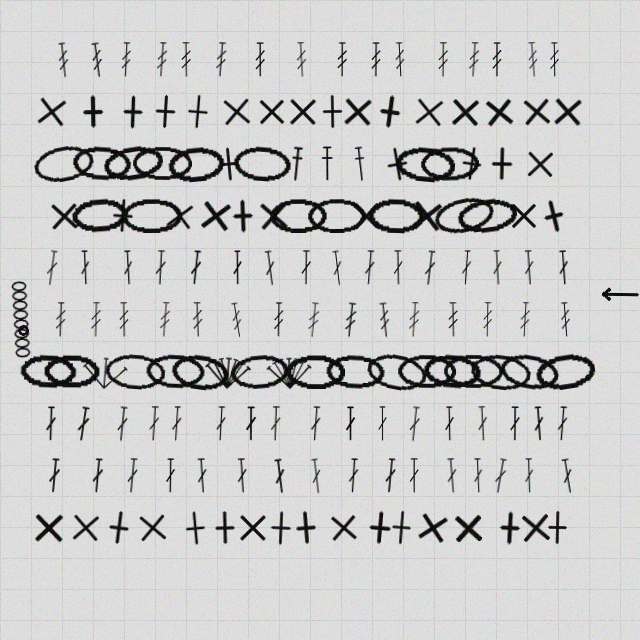chain: (431, 192, 498, 239), (364, 349, 430, 395), (31, 141, 97, 186), (497, 350, 561, 394), (101, 142, 165, 185), (533, 350, 597, 393), (455, 195, 519, 237), (469, 351, 533, 393), (169, 351, 232, 393), (394, 144, 456, 184), (229, 352, 291, 392), (104, 352, 167, 391), (166, 144, 227, 184), (71, 144, 133, 183), (232, 144, 293, 183), (422, 352, 483, 391), (70, 196, 130, 235), (325, 353, 386, 391), (145, 353, 206, 390), (367, 197, 426, 234), (19, 353, 78, 390), (121, 198, 182, 233), (443, 354, 504, 389), (420, 146, 479, 182), (132, 146, 192, 181), (307, 198, 367, 233), (285, 354, 345, 389), (269, 198, 328, 233), (397, 354, 456, 389), (43, 354, 101, 389)
double: (75, 406, 92, 442), (492, 458, 509, 494), (559, 458, 576, 494), (44, 250, 60, 286), (262, 250, 278, 286), (422, 250, 438, 286), (272, 458, 288, 494), (330, 250, 345, 286), (115, 406, 130, 442), (407, 406, 422, 442), (309, 458, 324, 494), (47, 458, 62, 493), (90, 458, 105, 493), (125, 458, 140, 493), (383, 458, 398, 493), (189, 250, 203, 285), (522, 250, 536, 285), (147, 406, 161, 441), (532, 406, 546, 441), (195, 458, 209, 493), (235, 458, 249, 493), (445, 458, 459, 493), (154, 250, 167, 285), (363, 250, 376, 285), (460, 250, 473, 285), (491, 250, 504, 285), (557, 250, 570, 285), (170, 406, 183, 441), (269, 406, 282, 441), (309, 406, 322, 441), (476, 406, 489, 441), (556, 406, 569, 441), (347, 458, 360, 493), (79, 250, 91, 285), (122, 250, 134, 285), (300, 250, 312, 285), (392, 250, 404, 285), (45, 406, 57, 441), (215, 406, 227, 441), (245, 406, 257, 441), (509, 406, 521, 441), (408, 458, 420, 493), (472, 458, 484, 493), (523, 458, 535, 493), (232, 250, 243, 285), (345, 406, 356, 441), (377, 406, 388, 441), (444, 406, 455, 441), (165, 458, 176, 493)
enseble_chain: (10, 281, 32, 359)
fan: (81, 353, 129, 391), (204, 353, 252, 391), (266, 354, 313, 390)
half_double: (288, 146, 305, 182), (352, 146, 368, 182), (320, 146, 334, 181)
noise: (599, 286, 639, 302), (17, 324, 30, 337)
single: (533, 195, 575, 237), (412, 507, 453, 548), (377, 144, 417, 184), (32, 92, 71, 131), (370, 92, 409, 131), (452, 144, 491, 183), (160, 196, 199, 235), (196, 196, 235, 235), (407, 196, 446, 235), (99, 508, 138, 547), (410, 93, 448, 131), (480, 93, 518, 131), (210, 145, 248, 183), (176, 509, 214, 547), (147, 93, 184, 130), (179, 93, 216, 130), (218, 93, 255, 130), (339, 93, 376, 130), (518, 93, 555, 130), (549, 93, 586, 130), (104, 197, 141, 234), (255, 197, 292, 234), (67, 509, 104, 546), (134, 509, 171, 546), (287, 509, 324, 546), (325, 509, 362, 546), (361, 509, 398, 546), (383, 509, 420, 546), (517, 509, 554, 546), (115, 94, 151, 130), (447, 94, 483, 130), (522, 146, 558, 182), (46, 198, 82, 234), (225, 198, 261, 234), (348, 198, 384, 234), (263, 510, 299, 546), (450, 510, 486, 546), (492, 510, 528, 546), (75, 94, 110, 129), (254, 94, 289, 129), (285, 94, 320, 129), (315, 94, 350, 129), (484, 146, 519, 181), (506, 198, 541, 233), (31, 510, 66, 545), (207, 510, 242, 545), (235, 510, 270, 545), (540, 510, 575, 545)
treble: (89, 42, 105, 78), (229, 302, 245, 338), (56, 42, 71, 78), (306, 302, 321, 338), (343, 302, 358, 338), (377, 302, 392, 338), (155, 42, 169, 77), (214, 42, 228, 77), (467, 42, 481, 77), (526, 42, 540, 77), (158, 302, 172, 337), (407, 302, 421, 337), (295, 42, 308, 77), (54, 302, 67, 337), (191, 302, 204, 337), (559, 302, 572, 337), (120, 42, 132, 77), (180, 42, 192, 77), (254, 42, 266, 77), (336, 42, 348, 77), (370, 42, 382, 77), (394, 42, 406, 77), (437, 42, 449, 77), (491, 42, 503, 77), (90, 302, 102, 337), (118, 302, 130, 337), (447, 302, 459, 337), (519, 302, 531, 337), (549, 42, 560, 77), (273, 302, 284, 337), (482, 302, 493, 337)
